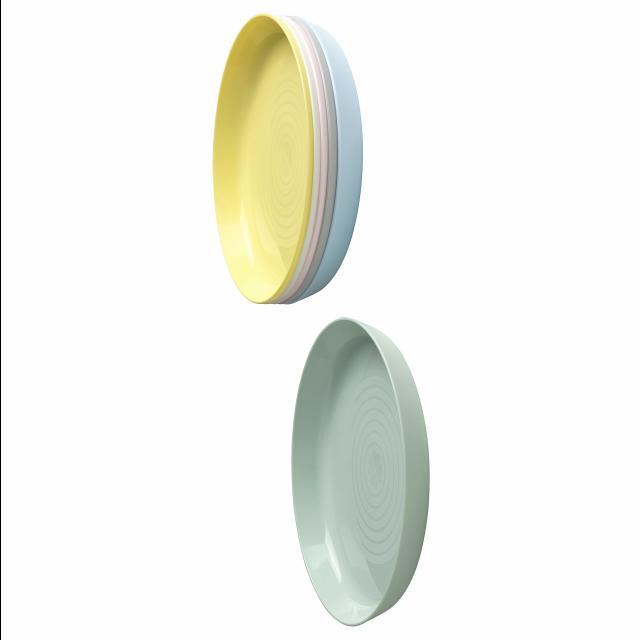plate: (56, 3, 520, 640)
